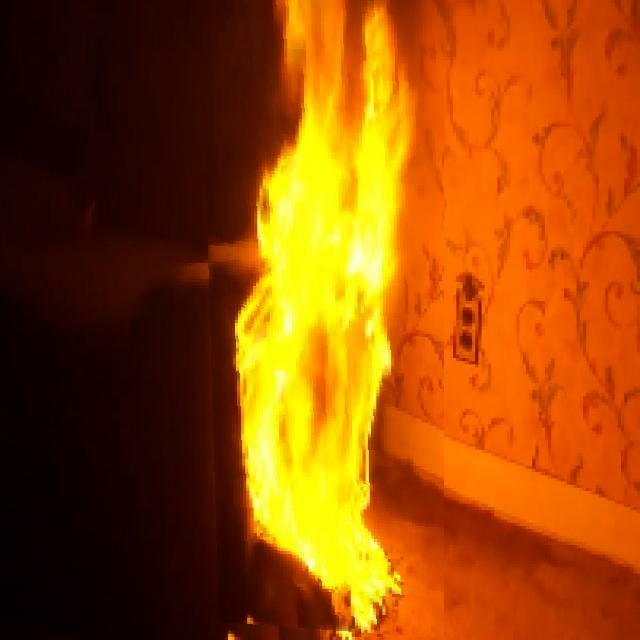fire: (227, 1, 437, 584)
